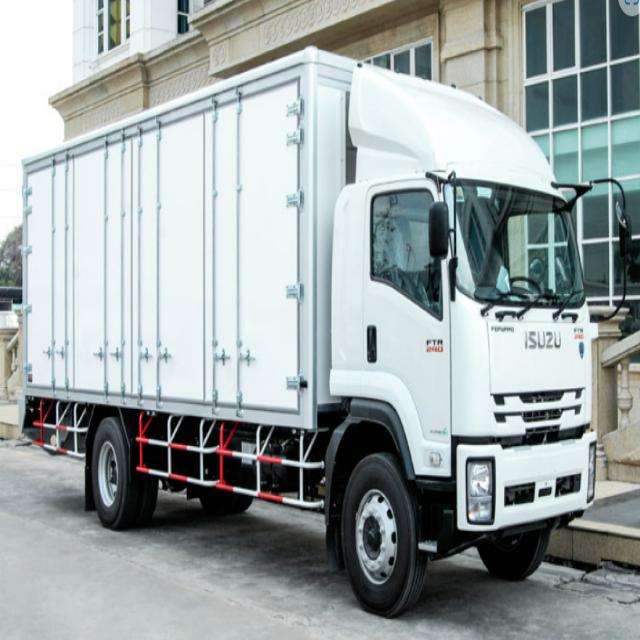truck: (24, 67, 610, 515)
